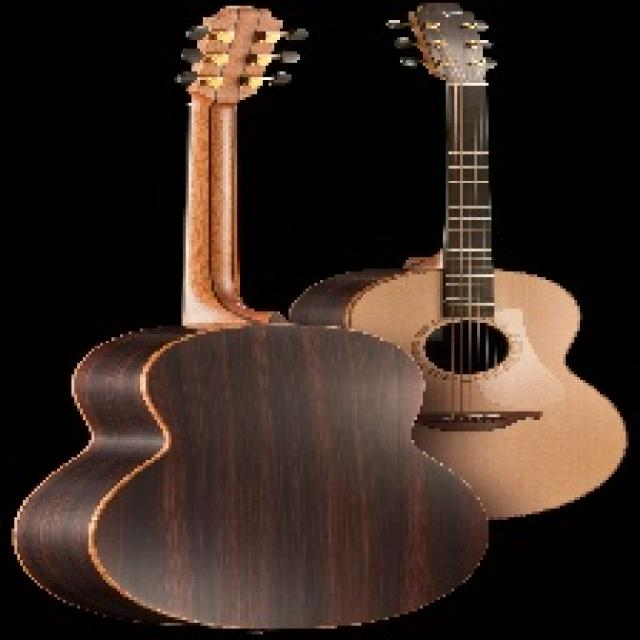guitar: (11, 5, 489, 640), (288, 7, 626, 522)
